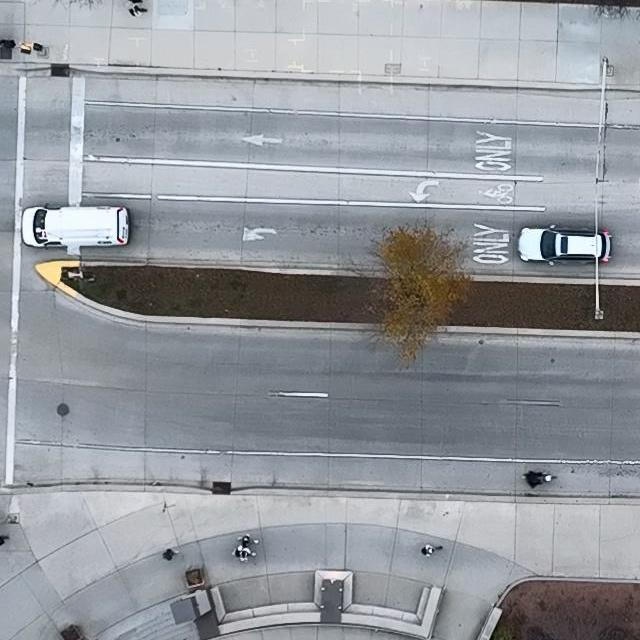car: (20, 203, 129, 250), (517, 224, 614, 267)
